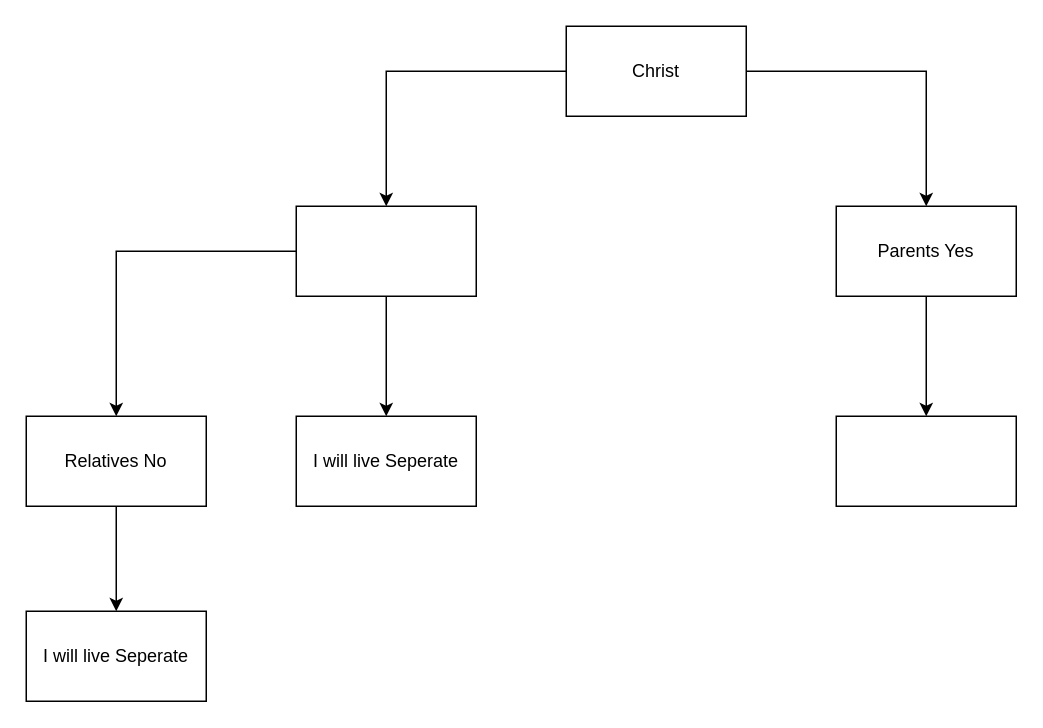
Image size: 1043x728. Some labels were removed from this diagram. The shapes that lost their labels are listed below. From the top down, each one's centre as x and y in pixels, then its label:
(x=385, y=250): Parents No
(x=925, y=460): I can live together
